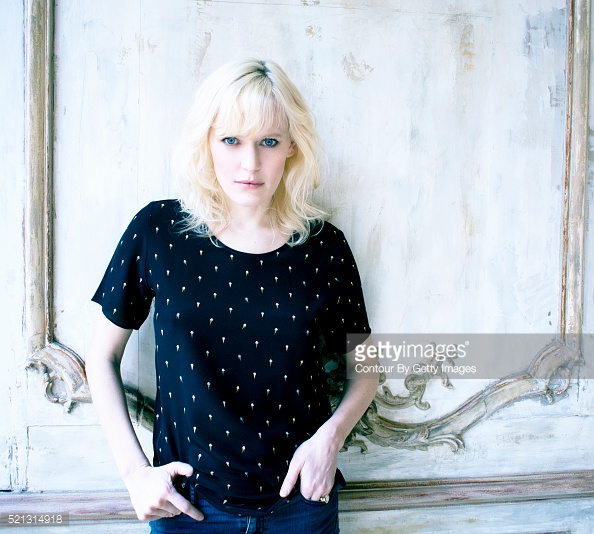em pe: (57, 64, 438, 534)
